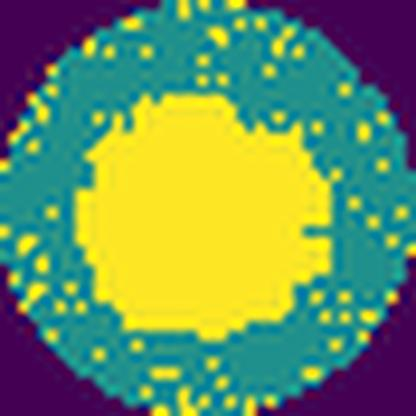Center: (78, 96, 330, 334)
